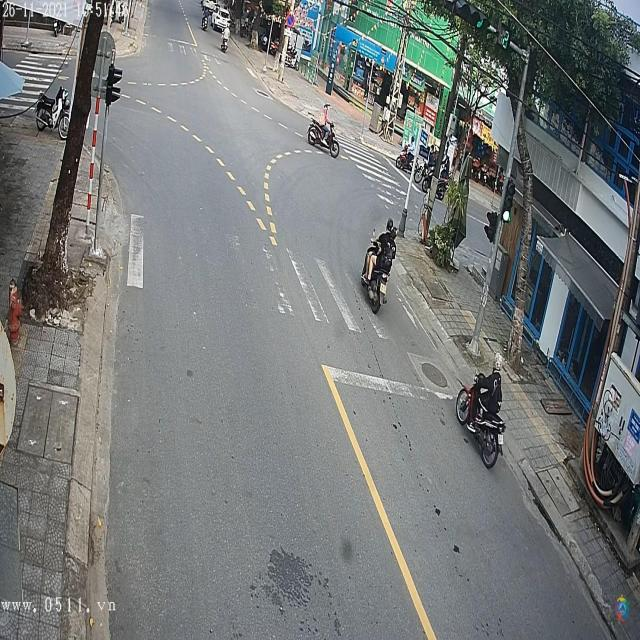motorcycle: (456, 366, 507, 469), (359, 228, 392, 314), (306, 118, 337, 156)
